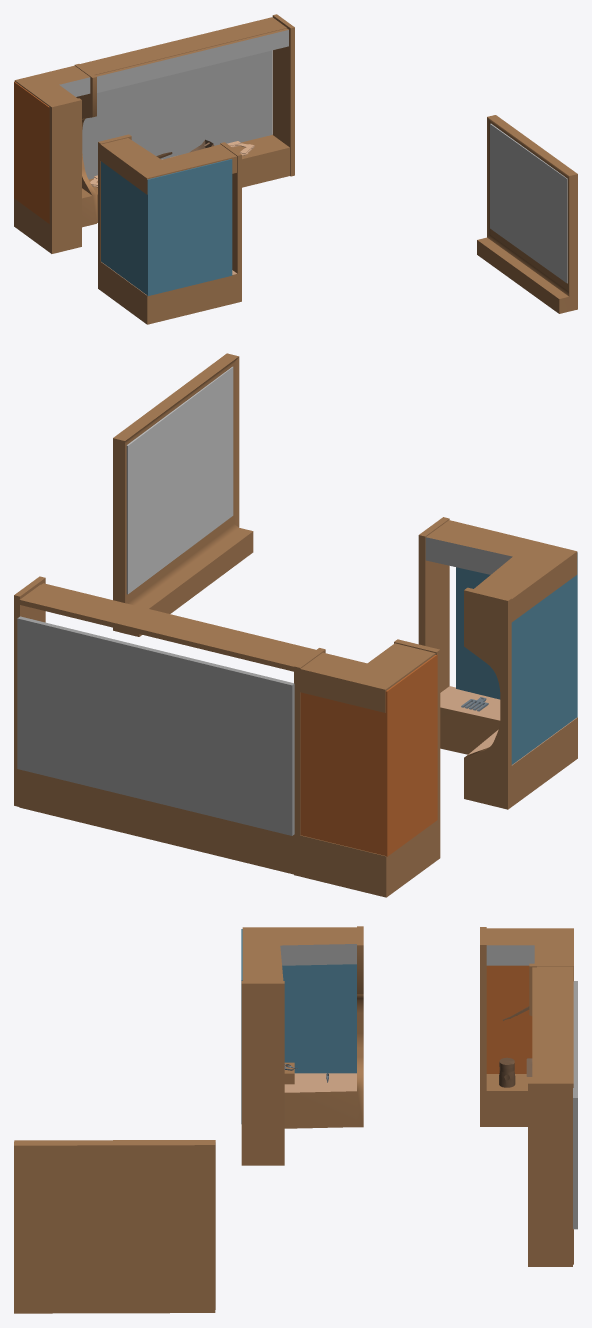
Rendered from ruangan2.fbx.
The picture shows the model from 3 angles, top to bottom: view 1: azimuth 30°, elevation 25°; view 2: azimuth 150°, elevation 25°; view 3: azimuth 270°, elevation 25°; orthographic projection. The views are drawn at different scales.
Parts seen in each view (by area): view 1: pCube75 (×2), Lemari1_Ruangan2 (×2), lemari4_ruangan4, petavanca_lemari1_ruangan2, Lemari1_ruangan3; view 2: petavanca_lemari1_ruangan2, Lemari1_Ruangan2 (×2), pCube75 (×2), lemari4_ruangan4, Lemari1_ruangan3; view 3: lemari4_ruangan4, Lemari1_Ruangan2 (×2), Lemari1_ruangan3, pCube75 (×2), petavanca_lemari1_ruangan2.
Boxes of the visible parts, left/top/right/bottom form: pCube75 (×2): left=14, top=81, right=232, bottom=295; Lemari1_Ruangan2 (×2): left=14, top=64, right=241, bottom=324; lemari4_ruangan4: left=477, top=115, right=577, bottom=313; petavanca_lemari1_ruangan2: left=82, top=50, right=272, bottom=179; Lemari1_ruangan3: left=80, top=14, right=294, bottom=222; petavanca_lemari1_ruangan2: left=17, top=616, right=294, bottom=835; Lemari1_Ruangan2 (×2): left=294, top=517, right=577, bottom=897; pCube75 (×2): left=300, top=552, right=577, bottom=856; lemari4_ruangan4: left=113, top=353, right=253, bottom=636; Lemari1_ruangan3: left=14, top=576, right=315, bottom=874; lemari4_ruangan4: left=14, top=1140, right=215, bottom=1313; Lemari1_Ruangan2 (×2): left=241, top=926, right=573, bottom=1165; Lemari1_ruangan3: left=528, top=966, right=573, bottom=1266; pCube75 (×2): left=241, top=929, right=532, bottom=1123; petavanca_lemari1_ruangan2: left=573, top=981, right=577, bottom=1229.
Size of the model in its own units: 10.18 by 4.27 by 11.84.
